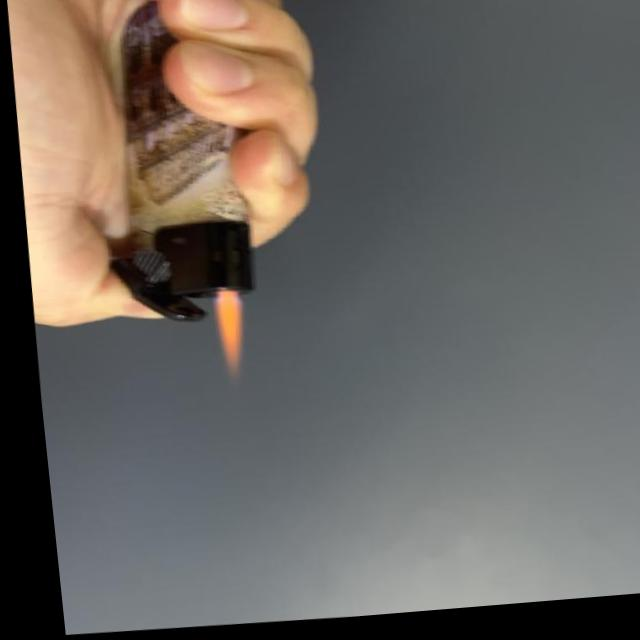Fire: (200, 294, 243, 377)
